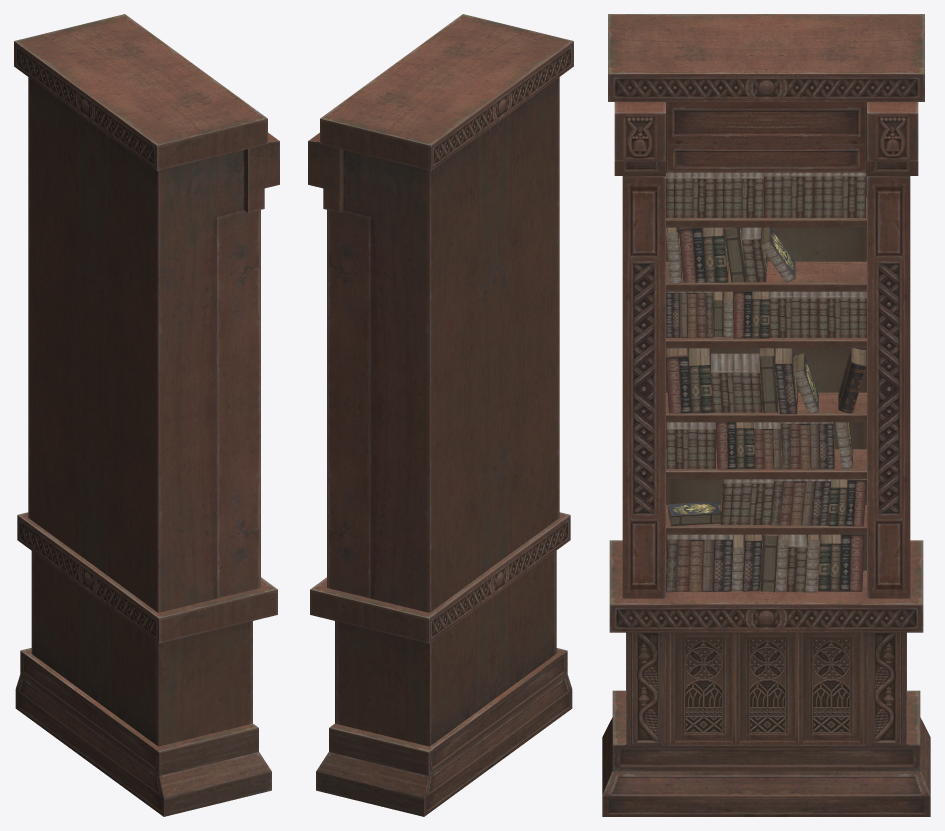
The model's file is bg_lut_lucastle_libraryprop01_sm_artree.FBX.
The picture shows the model from 3 angles, left to right: view 1: azimuth 30°, elevation 25°; view 2: azimuth 150°, elevation 25°; view 3: azimuth 270°, elevation 25°; orthographic projection. The views are drawn at different scales.
Parts seen in each view (by area): view 1: bg_lut_lucastle_libraryprop01_sm_artree; view 2: bg_lut_lucastle_libraryprop01_sm_artree; view 3: bg_lut_lucastle_libraryprop01_sm_artree.
Boxes of the visible parts, box(x1,y1,x2,y2) form: bg_lut_lucastle_libraryprop01_sm_artree: box(14, 14, 279, 816); bg_lut_lucastle_libraryprop01_sm_artree: box(308, 14, 573, 816); bg_lut_lucastle_libraryprop01_sm_artree: box(602, 14, 930, 816).
Bounding box in the file's own units: 106 × 542 × 217.
